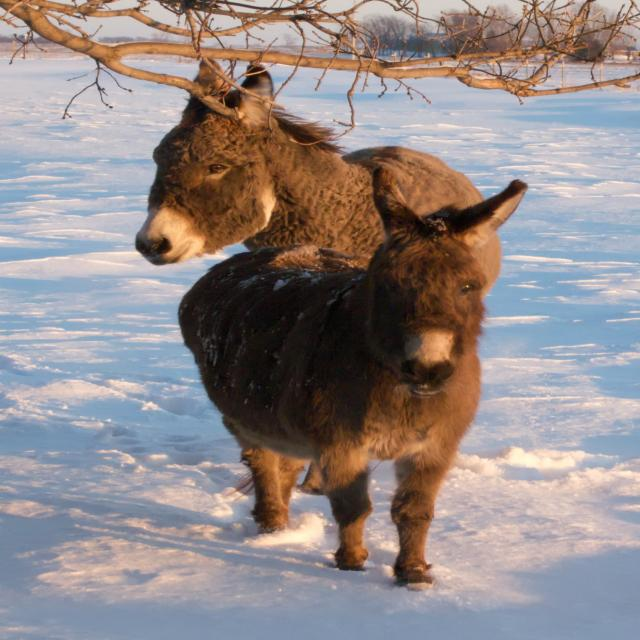Donkey: (183, 177, 528, 583)
